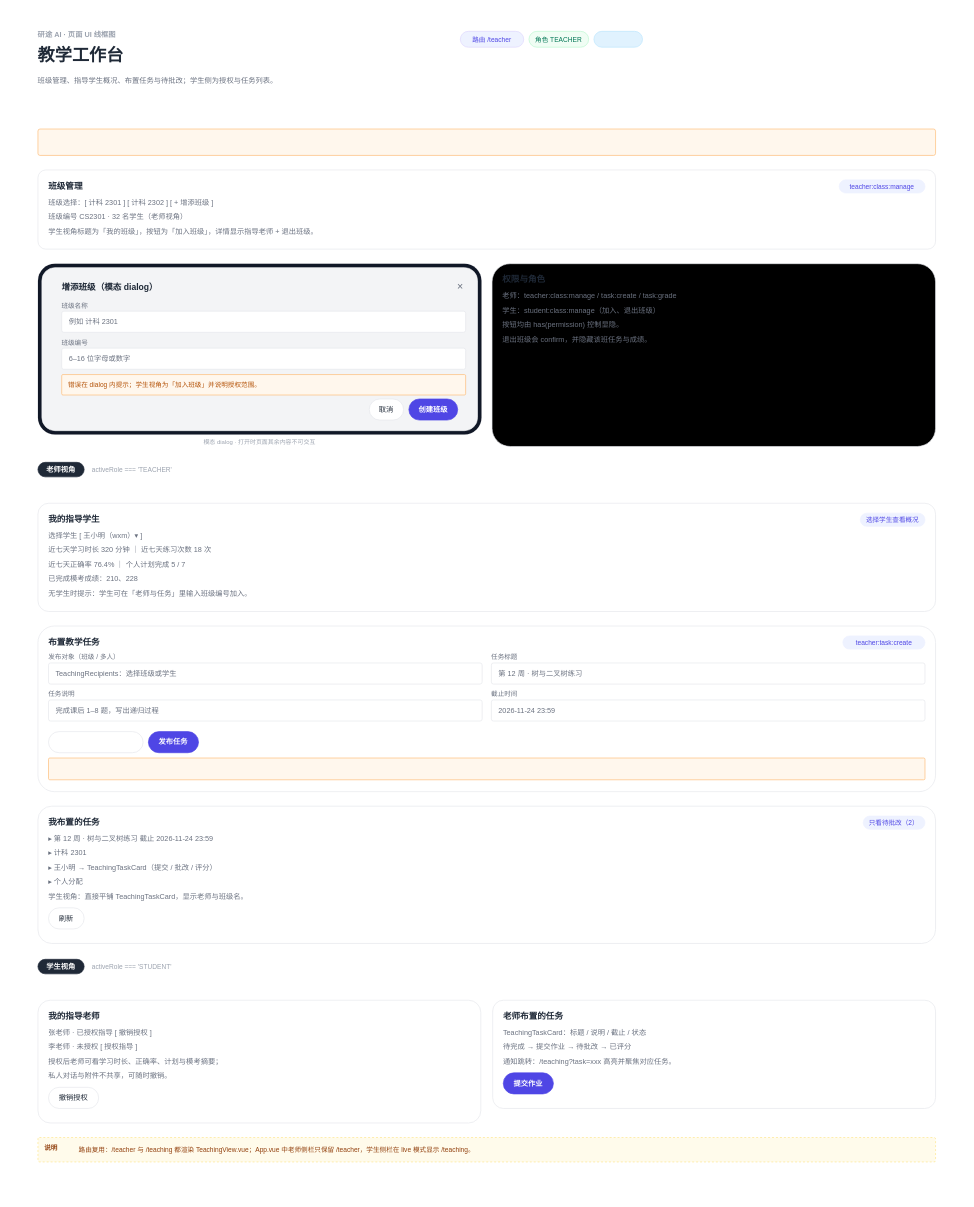
Image size: 974x1207. Some labels were removed from this diagram. Here are the shapes that lost their labels. From the top down, the centre of each, then its label:
At (x=618, y=39): "模式 live".
At (x=486, y=141): "ⓘ 教学与指导功能需要登录真实账号（非 live 模式整页只显示这条提示）。".
At (x=95, y=742): "☑ 要求提交作业并评分".
At (x=486, y=768): "发布对象为空时只能发个人；截止时间必须晚于当前时间，否则内联报错。".
